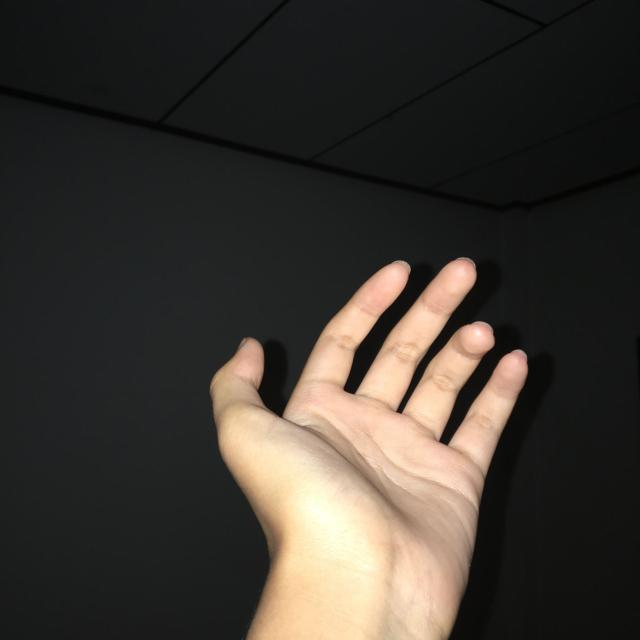no-gloves: (211, 258, 531, 640)
